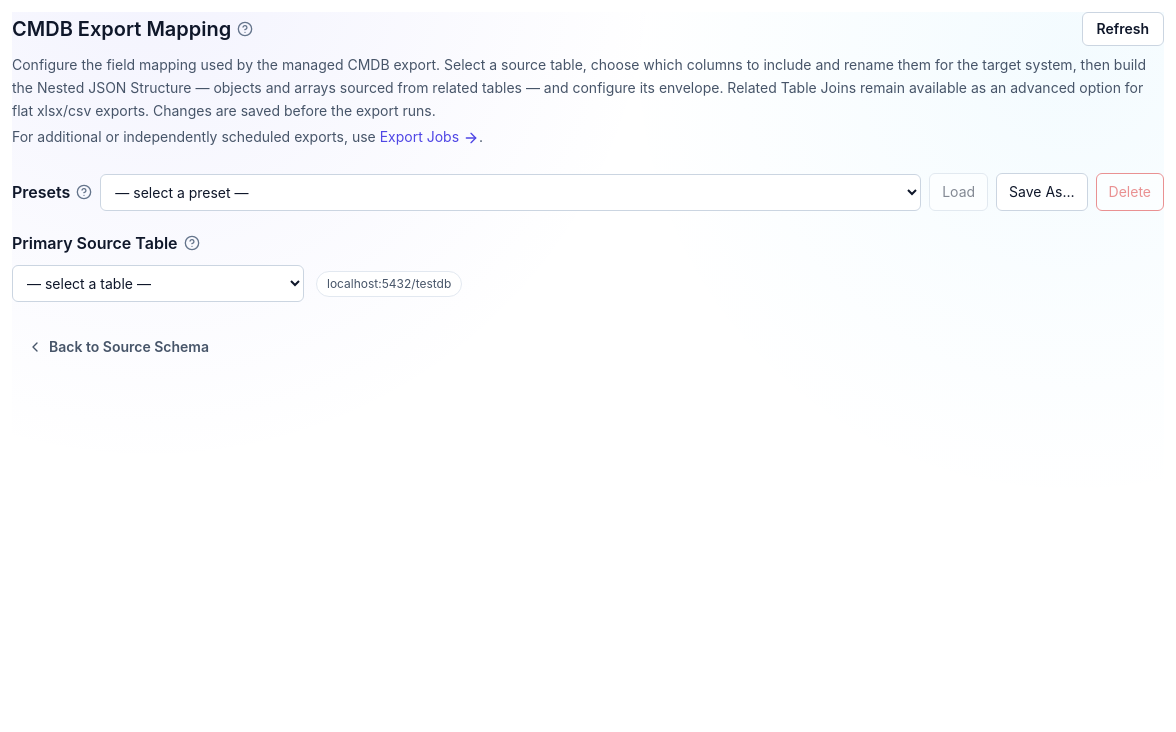
SchemaView › shows column rows after a table is selected
Select "systemconfiguration (4 cols — PK: id)" in the dropdown with class "table-select" at (158, 284), box [12,265,304,302]
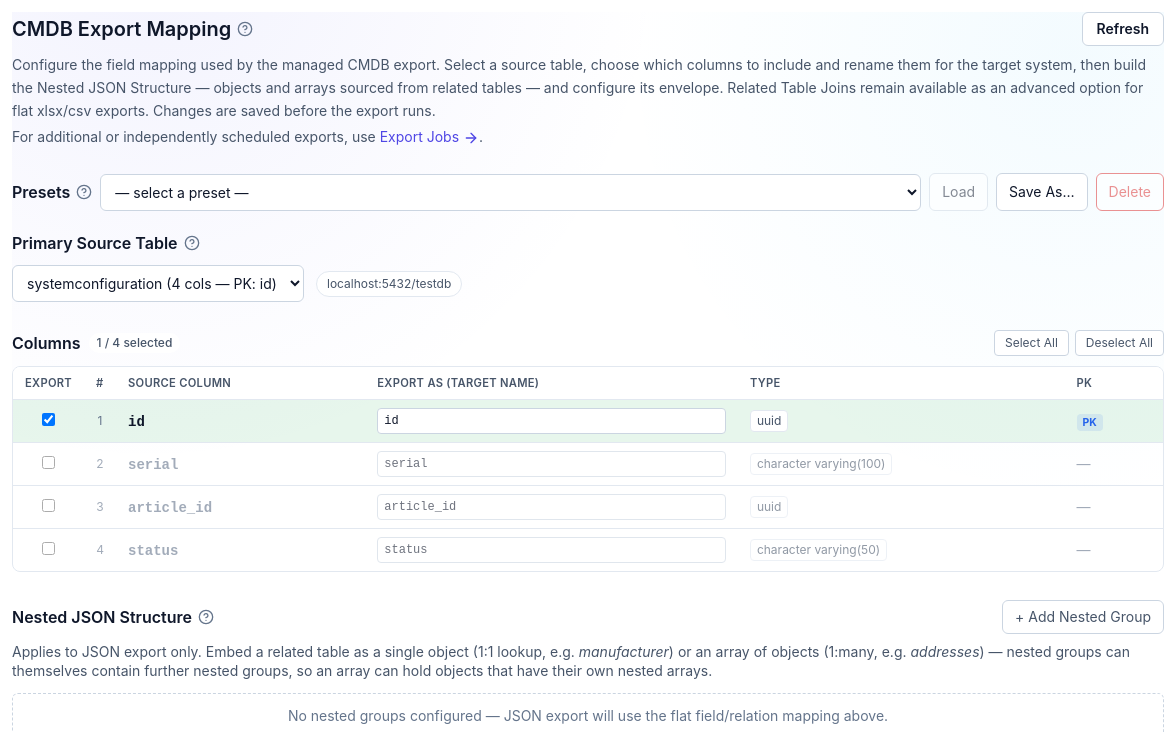
Result: the table shows "id" at [128,414,145,430]
Result: the table shows "serial" at [128,456,178,472]
